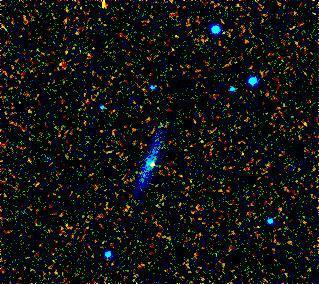star: (143, 147, 173, 177)
